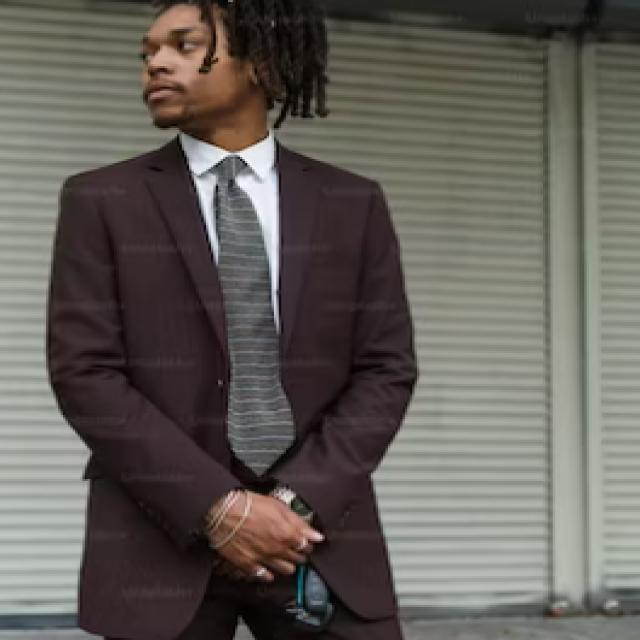Watch: (265, 478, 317, 522)
